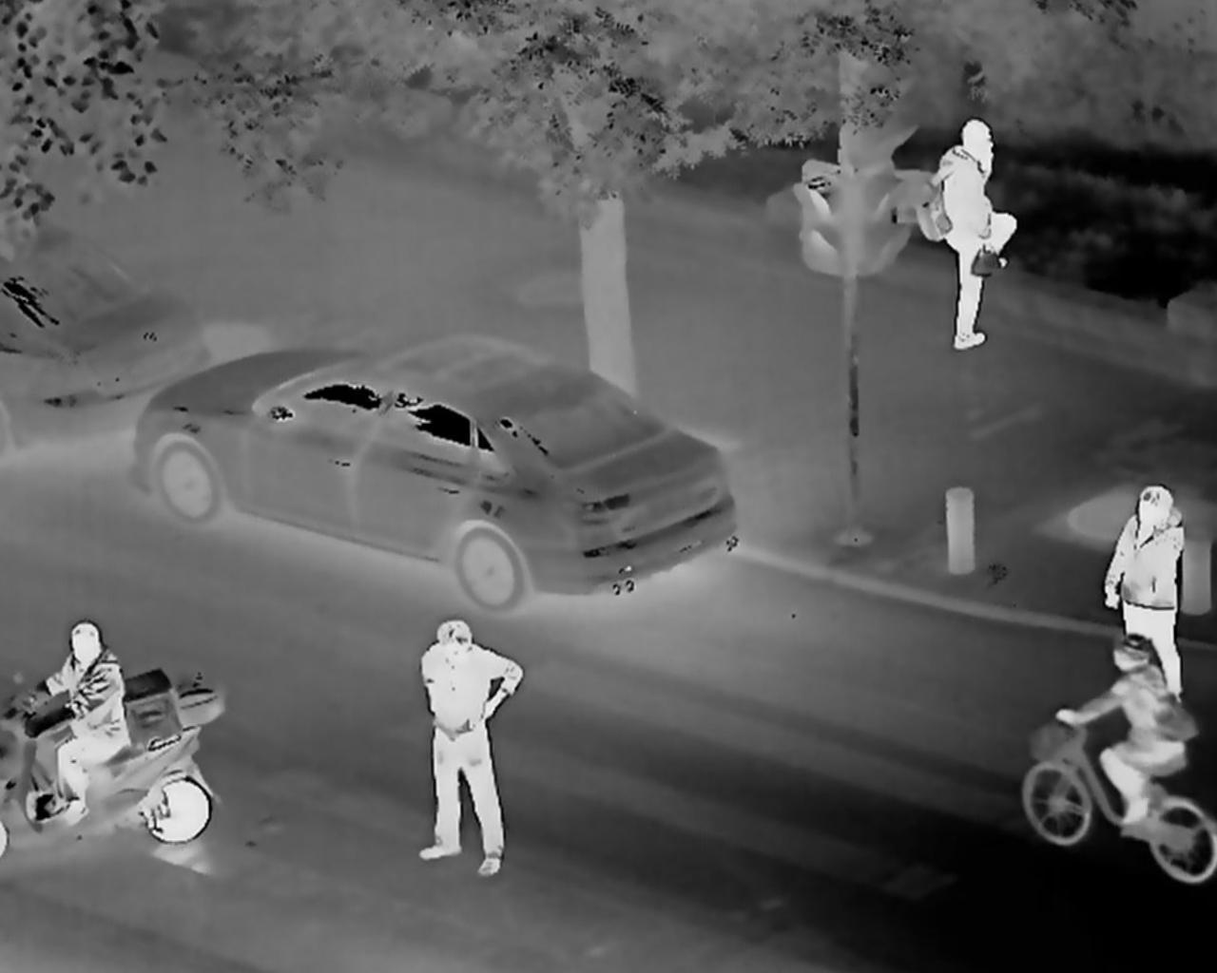person: (1058, 630, 1198, 855), (417, 622, 530, 879), (10, 616, 133, 823), (1105, 485, 1217, 699), (933, 116, 1019, 351)
